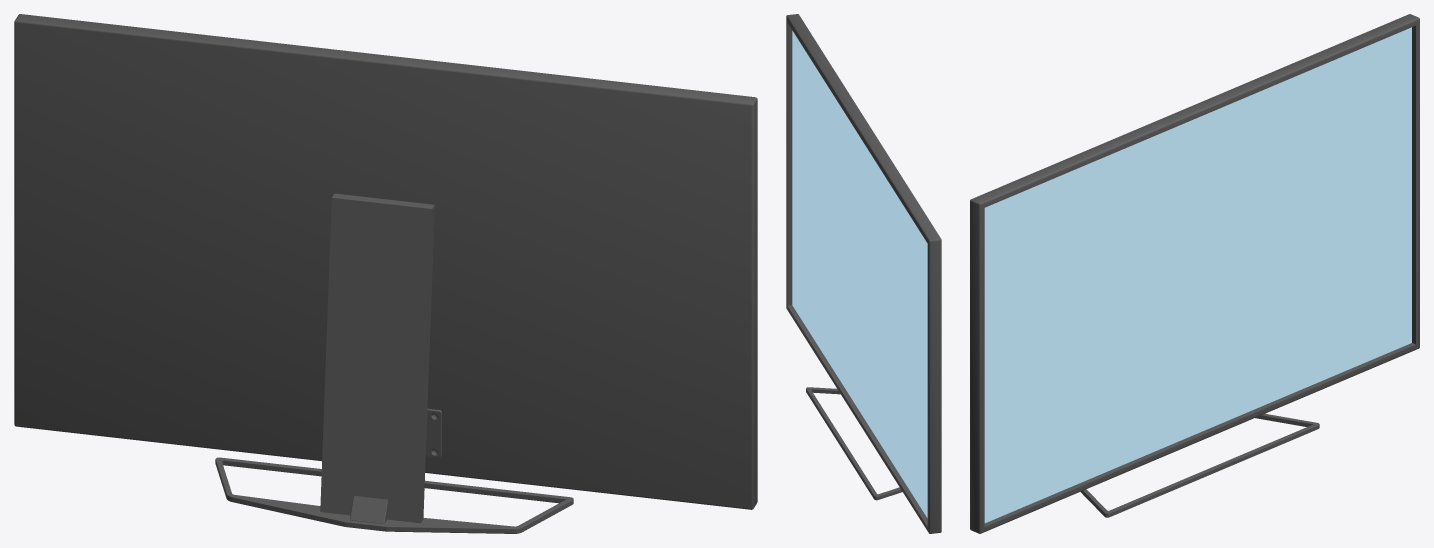
The model's file is Monitor and Screen.fbx.
3 views of the same model, side by side, from view 1: azimuth 30°, elevation 25°; view 2: azimuth 150°, elevation 25°; view 3: azimuth 270°, elevation 25° (orthographic). The views are drawn at different scales.
Visible parts, largest first — view 1: Monitor; view 2: Screen, Monitor; view 3: Screen, Monitor.
Part boxes in pixels (bbox=[...]): Monitor: bbox=[14, 14, 757, 533]; Screen: bbox=[792, 31, 927, 517]; Monitor: bbox=[786, 14, 941, 533]; Screen: bbox=[984, 27, 1411, 523]; Monitor: bbox=[970, 14, 1419, 533].
Size of the model in its own units: 76.75 by 67.06 by 76.75.
